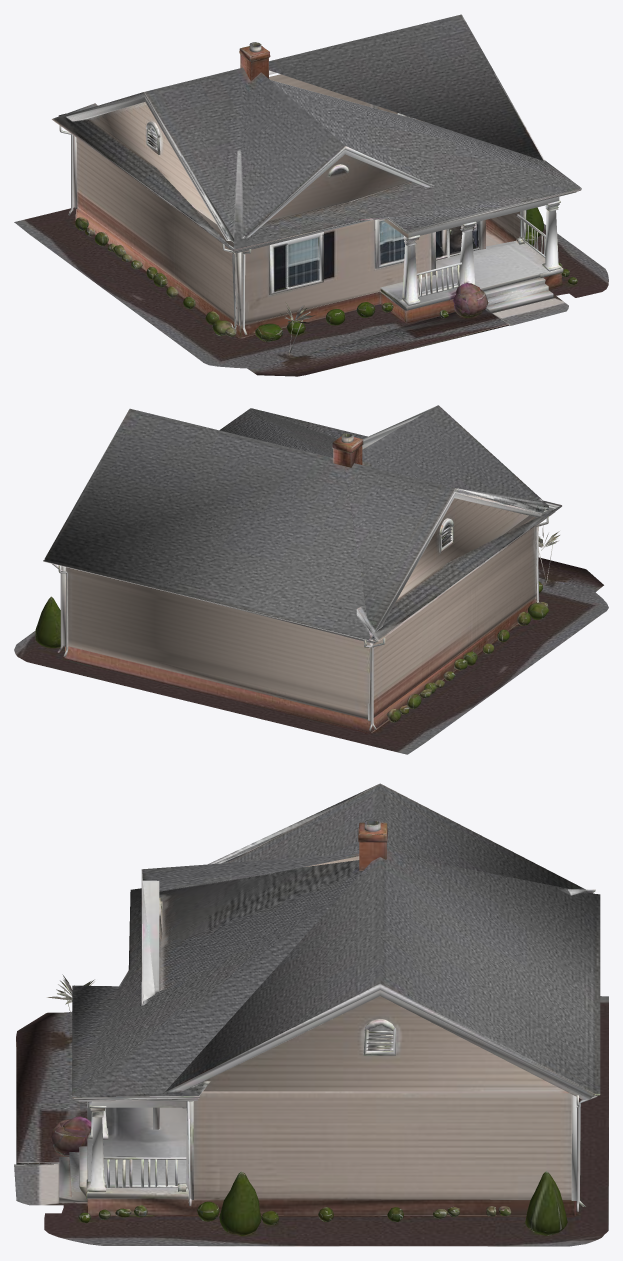
File: bld_house_ranch.glb
3 views of the same model, one above another, from view 1: azimuth 30°, elevation 25°; view 2: azimuth 150°, elevation 25°; view 3: azimuth 270°, elevation 25° (orthographic). The views are drawn at different scales.
Size of the model in its own units: 0.9497 by 0.4795 by 0.9497.
Materials: 1 (1 with a texture image).
